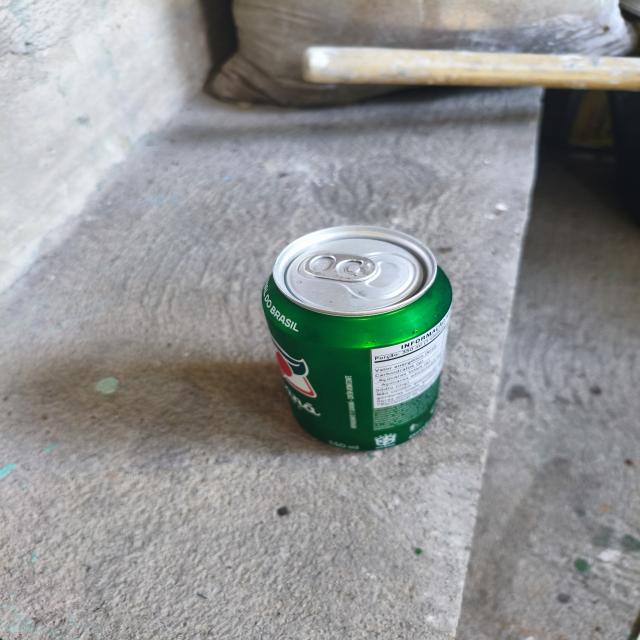Guarana: (231, 210, 486, 490)
